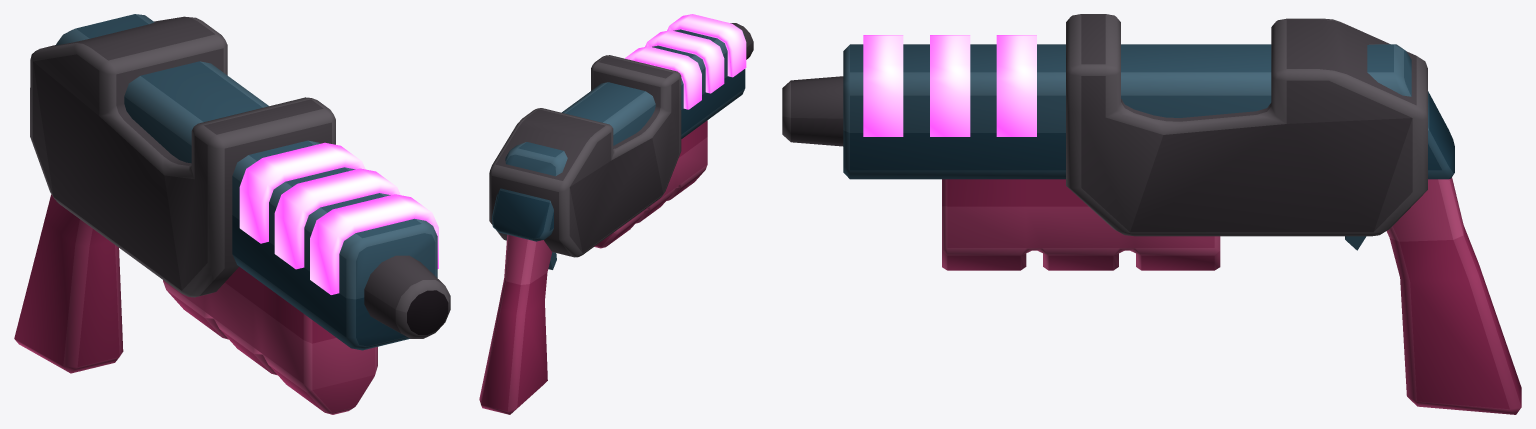
File: Pistol.fbx
3 renders of one model, left to right at view 1: azimuth 30°, elevation 25°; view 2: azimuth 150°, elevation 25°; view 3: azimuth 270°, elevation 25°, orthographic. The views are drawn at different scales.
Parts seen in each view (by area): view 1: Pistol; view 2: Pistol; view 3: Pistol.
Part boxes in pixels (x1,y1,x2,y2): Pistol: (14, 14, 450, 414); Pistol: (479, 14, 753, 414); Pistol: (782, 14, 1521, 414).
Size of the model in its own units: 9.79 by 28.77 by 52.78.
